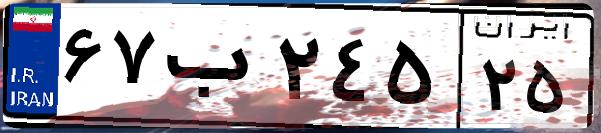2: (270, 28, 330, 110), (475, 38, 525, 113)
4: (330, 28, 385, 110)
5: (385, 28, 445, 110), (525, 38, 570, 115)
6: (57, 26, 110, 100)
7: (110, 28, 158, 98)
ب: (158, 20, 270, 120)
